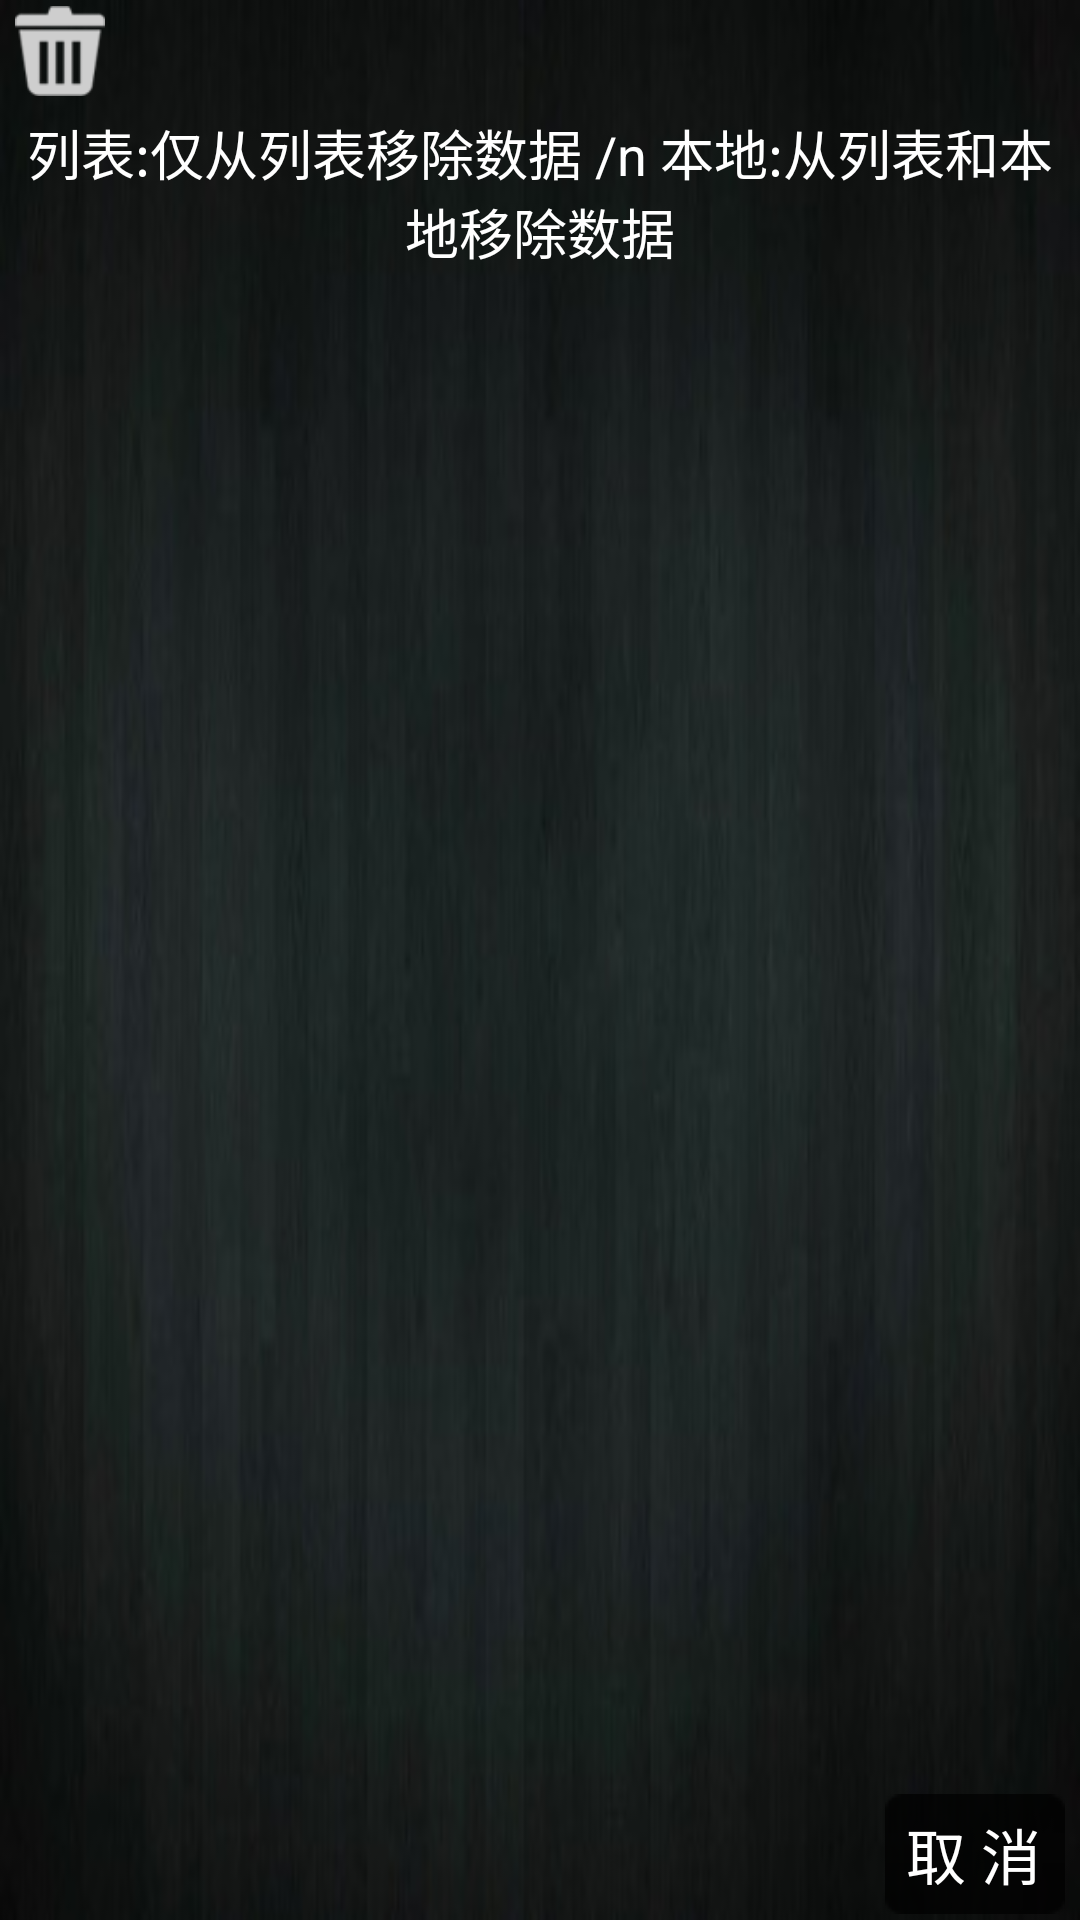

Icon click points for this 1080x1920 phone screenshot, format [x,y]:
delete choice: [60,51]
